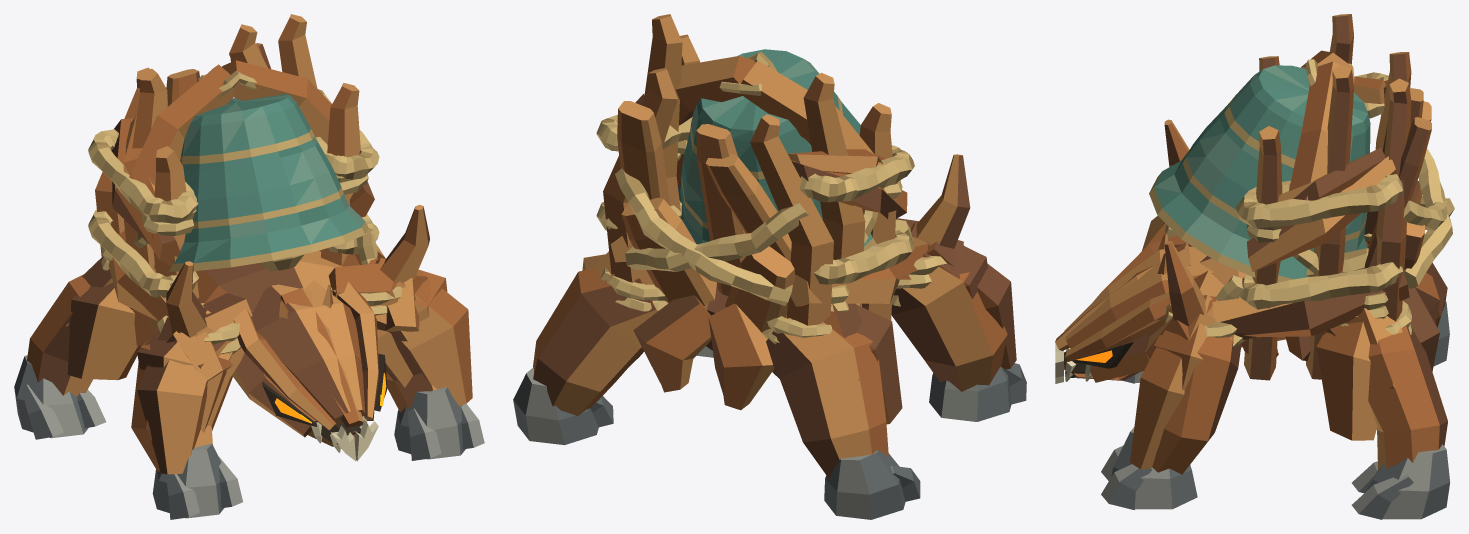
File: bellback-complete-wreck-anatomy.glb
The picture shows the model from 3 angles, left to right: view 1: azimuth 30°, elevation 25°; view 2: azimuth 150°, elevation 25°; view 3: azimuth 270°, elevation 25°; orthographic projection. The views are drawn at different scales.
Parts seen in each view (by area): view 1: Hollow cast bell, Solid timber cranium, Left fore outer timber shield, Left hind shoulder cap, Right fore outer timber shield, Arch left, Barrel timber hull, Left hind timber leg, Heavy salvage side lashing -1 1, Arch right, Right fore stone foot, Shaped orbital brow timber -1 (+38 smaller); view 2: Left hind timber leg, Right hind timber leg, Left fore timber leg, Hollow cast bell, Broken ship rib -1 2, Stern overlapping plate 1, Stern overlapping plate -1, Rear crossed rope right, Broken ship rib -1 1, Left hind stone foot, Rear crossed rope left, Stern diagonal wreck plank 1 (+27 smaller); view 3: Hollow cast bell, Right hind timber leg, Right fore timber leg, Right hind shoulder cap, Lower broken side strake 1, Right fore outer timber shield, Heavy salvage side lashing 1 0, Heavy salvage side lashing 1 1, Solid timber cranium, Broken ship rib 1 2, Broken ship rib 1 1, Right hind stone foot (+32 smaller).
Boxes of the visible parts, x1,y1,x2,y2 form: Hollow cast bell: (154, 94, 368, 271); Solid timber cranium: (251, 280, 365, 425); Left fore outer timber shield: (137, 317, 207, 474); Left hind shoulder cap: (67, 282, 141, 380); Right fore outer timber shield: (396, 269, 472, 406); Arch left: (129, 64, 235, 185); Barrel timber hull: (196, 250, 342, 311); Left hind timber leg: (27, 274, 92, 396); Heavy salvage side lashing -1 1: (88, 129, 198, 223); Arch right: (222, 60, 331, 144); Right fore stone foot: (394, 387, 465, 459); Shaped orbital brow timber -1: (233, 308, 335, 430); Left hind timber leg: (766, 317, 888, 478); Right hind timber leg: (533, 268, 657, 416); Left fore timber leg: (891, 266, 1007, 391); Hollow cast bell: (678, 49, 900, 250); Broken ship rib -1 2: (750, 114, 833, 325); Stern overlapping plate 1: (633, 295, 711, 392); Stern overlapping plate -1: (708, 303, 774, 410); Rear crossed rope right: (615, 168, 792, 305); Broken ship rib -1 1: (803, 72, 865, 306); Left hind stone foot: (824, 450, 905, 519); Rear crossed rope left: (625, 202, 808, 271); Stern diagonal wreck plank 1: (617, 101, 669, 205); Hollow cast bell: (1149, 65, 1370, 282); Right hind timber leg: (1368, 312, 1447, 469); Right fore timber leg: (1152, 334, 1241, 474); Right hind shoulder cap: (1316, 321, 1377, 440); Lower broken side strake 1: (1212, 271, 1409, 337); Right fore outer timber shield: (1130, 312, 1215, 469); Heavy salvage side lashing 1 0: (1239, 248, 1403, 309); Heavy salvage side lashing 1 1: (1236, 174, 1403, 228); Solid timber cranium: (1064, 244, 1214, 357); Broken ship rib 1 2: (1376, 78, 1411, 321); Broken ship rib 1 1: (1306, 64, 1353, 379); Right hind stone foot: (1365, 444, 1450, 519).
Size of the model in its own units: 3.64 by 3.72 by 3.37.
